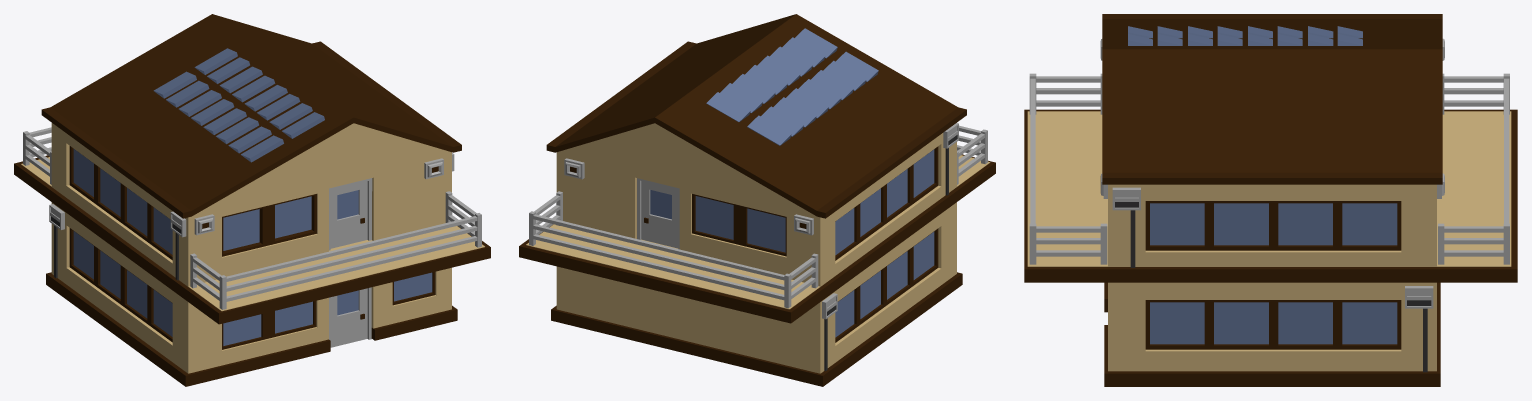
Rendered from Building9_1.fbx.
3 views of the same model, side by side, from view 1: azimuth 30°, elevation 25°; view 2: azimuth 150°, elevation 25°; view 3: azimuth 270°, elevation 25° (orthographic). The views are drawn at different scales.
Parts seen in each view (by area): view 1: Building9_1; view 2: Building9_1; view 3: Building9_1.
Part boxes in pixels (box(x1,y1,x2,y2)): Building9_1: box(14, 14, 490, 386); Building9_1: box(519, 14, 995, 386); Building9_1: box(1024, 14, 1517, 386).
Size of the model in its own units: 542 by 427 by 689.
